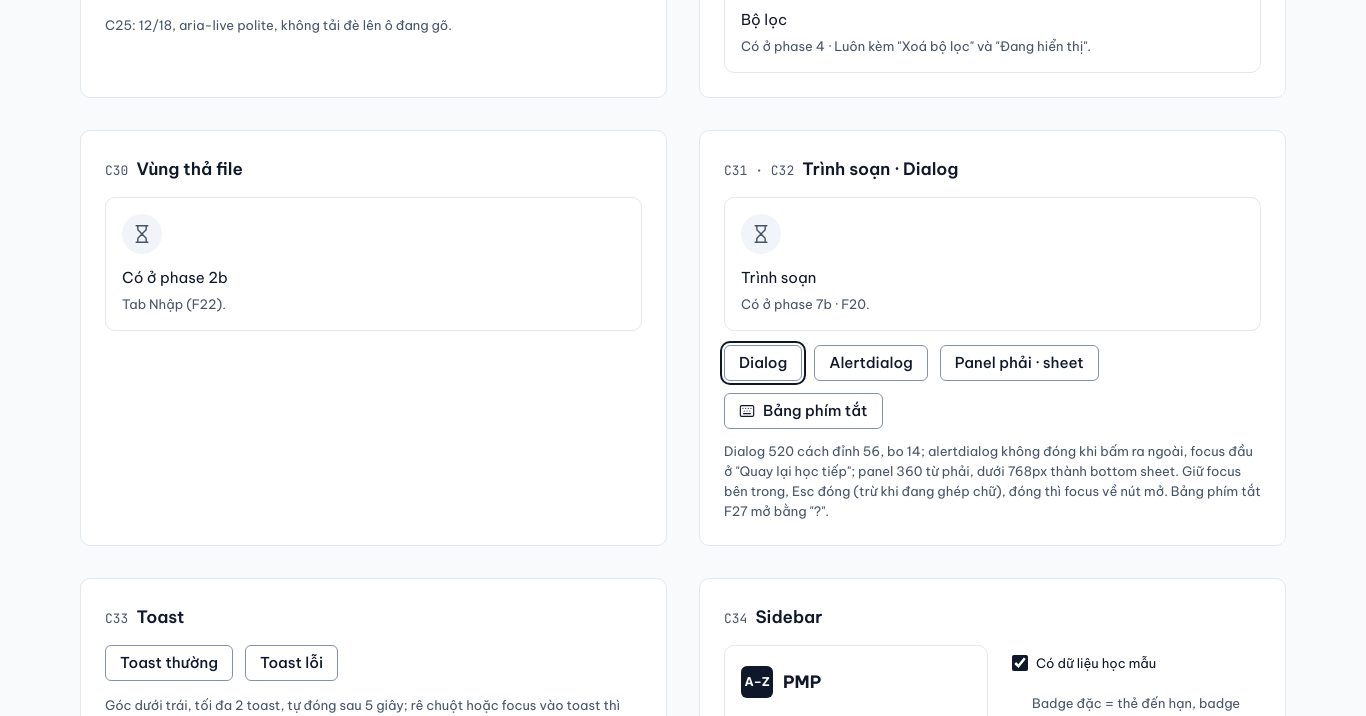
gallery F02b (component phần 2) › C32: dialog mở bằng nút, Esc đóng, focus về nút mở; alertdialog focus đầu "Quay lại học tiếp"
The width and height of the screenshot is (1366, 716).
(page scrolled)
Click the button "Dialog".
click(763, 363)  # box [724, 345, 802, 381]
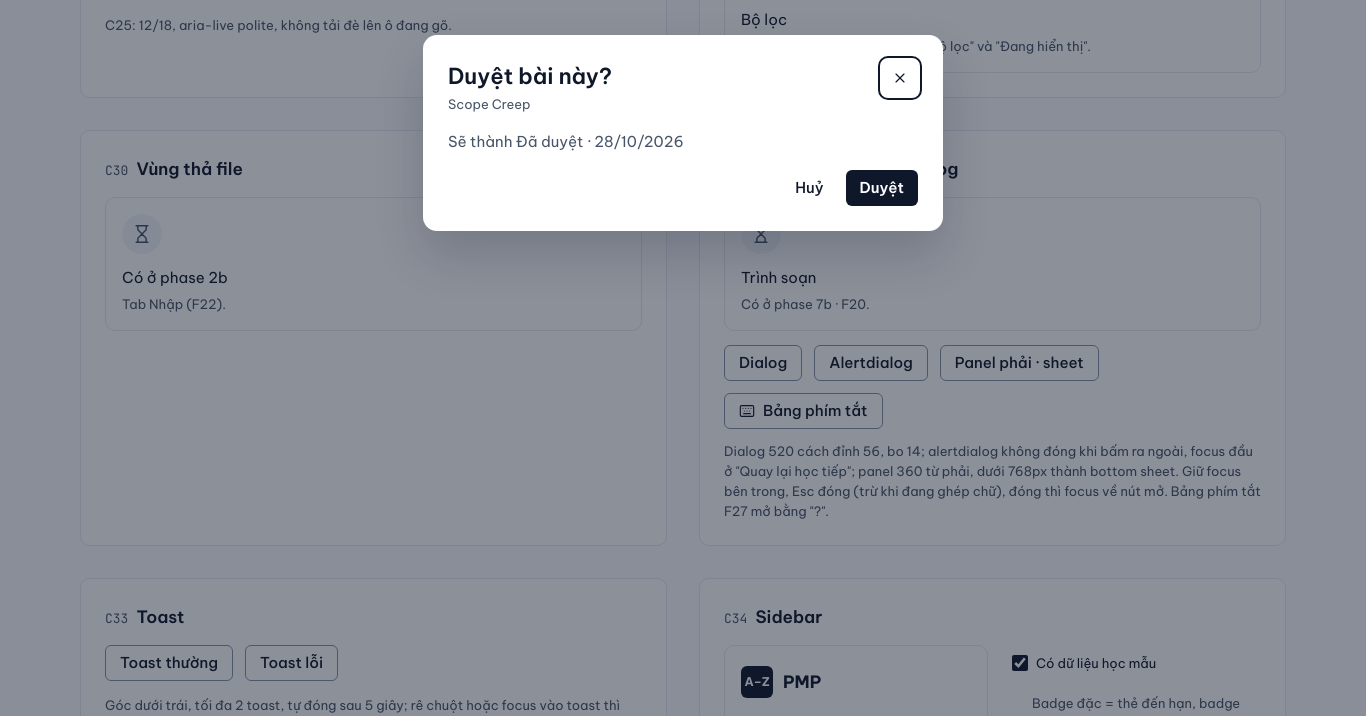
expect the text "Sẽ thành Đã duyệt · 28/10/2026" is shown: met, box [448, 132, 684, 151]
Press Escape in the dialog "Duyệt bài này?", box [423, 35, 943, 231]
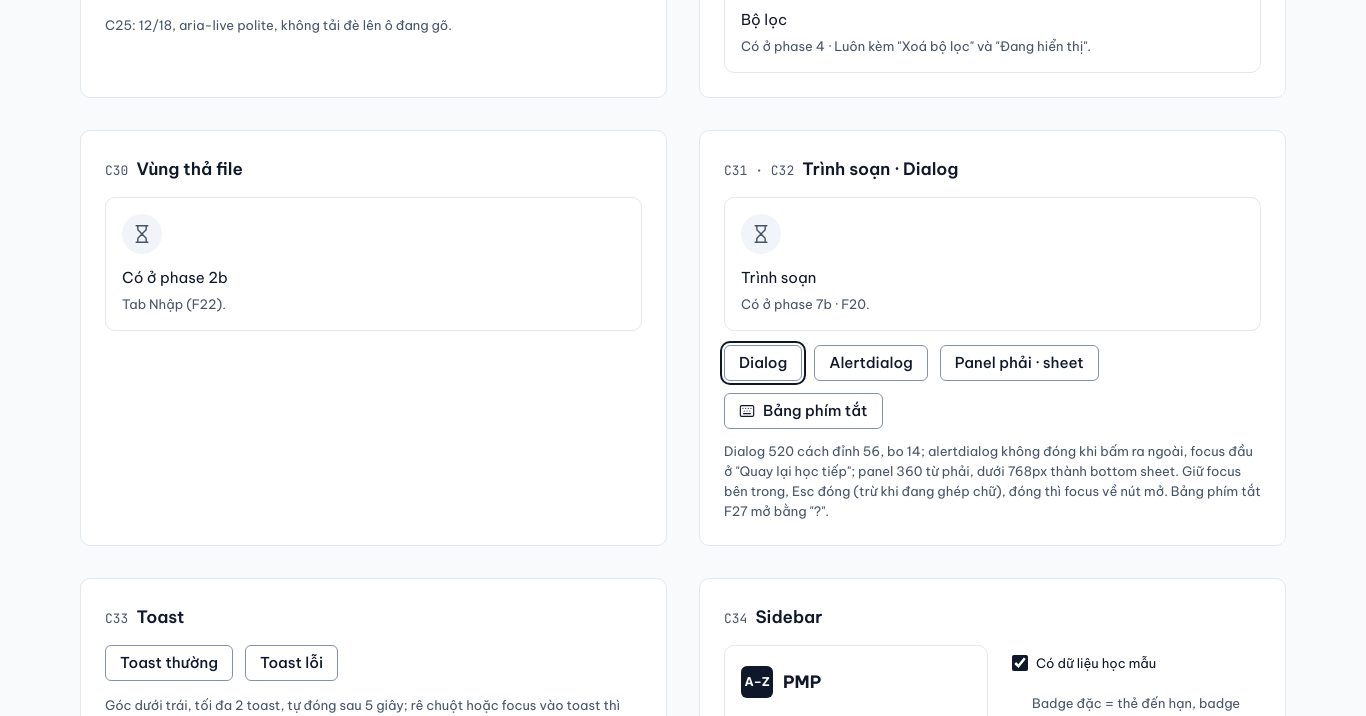
expect the heading "Duyệt bài này?" is gone: met
Click the button "Alertdialog".
click(871, 363)  # box [814, 345, 928, 381]
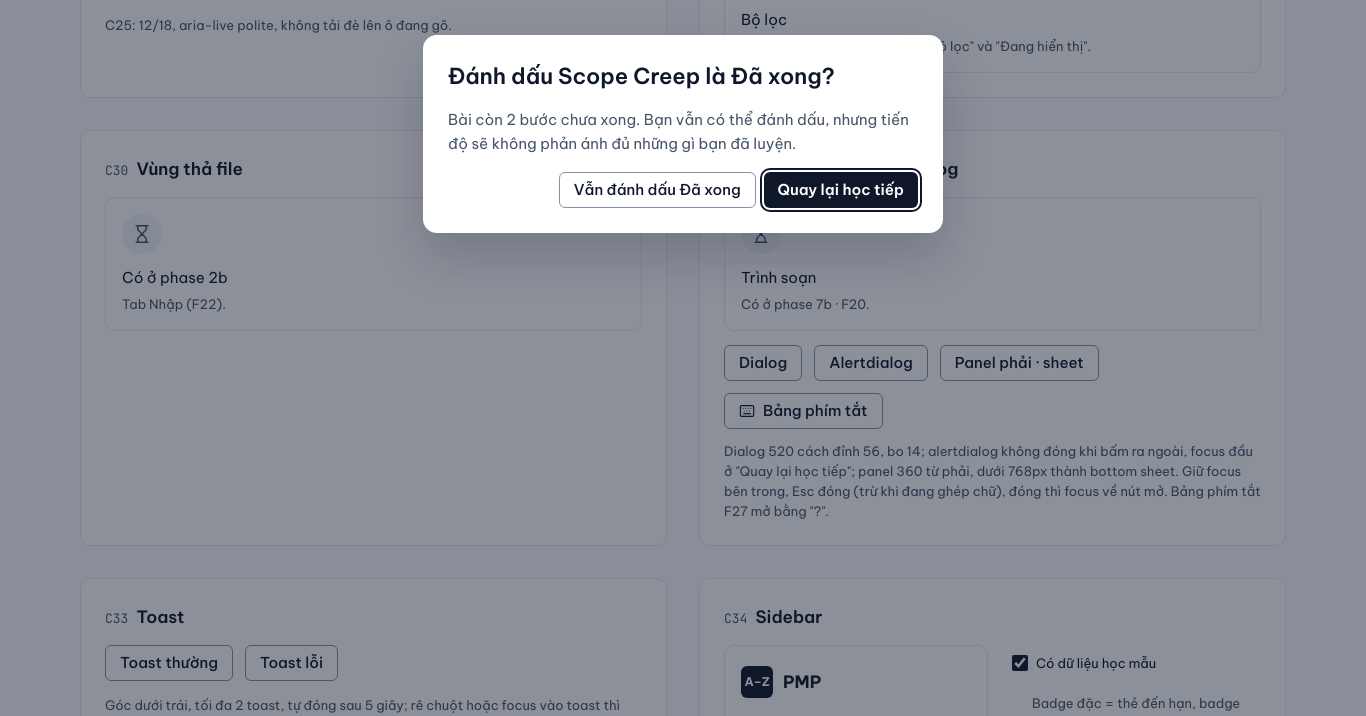
expect the text "Bài còn 2 bước chưa xong" is shown: met, box [448, 110, 909, 153]
